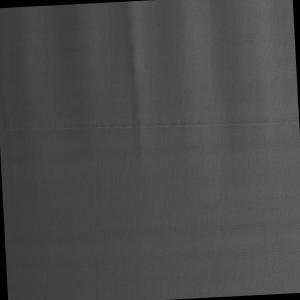Wrinkle: (1, 1, 300, 206), (4, 207, 300, 263)
